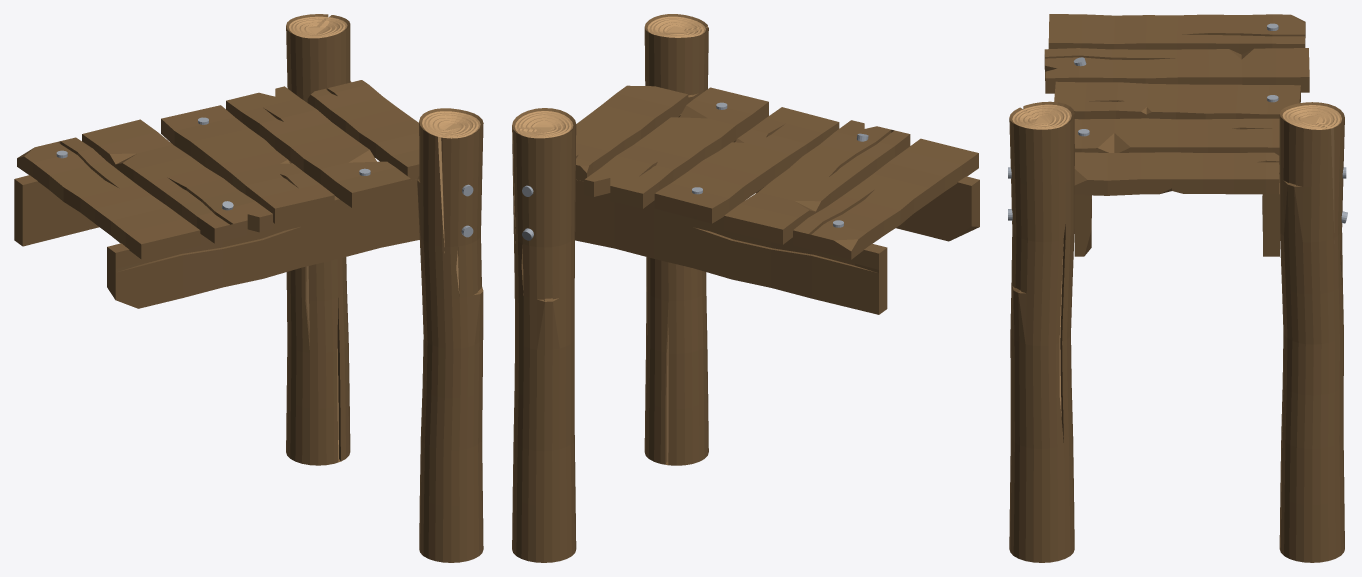
The model's file is Dock 2.fbx.
3 renders of one model, left to right at view 1: azimuth 30°, elevation 25°; view 2: azimuth 150°, elevation 25°; view 3: azimuth 270°, elevation 25°, orthographic.
Visible parts, largest first — view 1: Dock 2; view 2: Dock 2; view 3: Dock 2.
Boxes of the visible parts, x1,y1,x2,y2 form: Dock 2: (14, 14, 483, 562); Dock 2: (512, 14, 979, 562); Dock 2: (1008, 14, 1347, 562).
Bounding box in the file's own units: 3.68 × 4.33 × 3.06.
